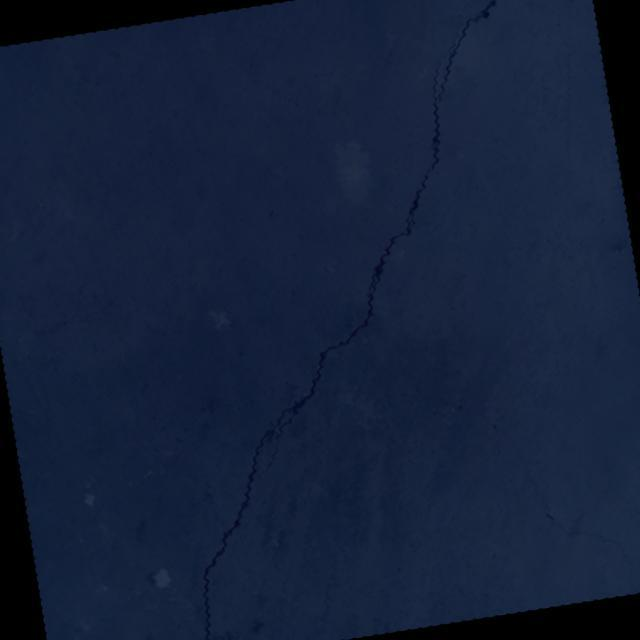crack: (109, 0, 638, 640)
